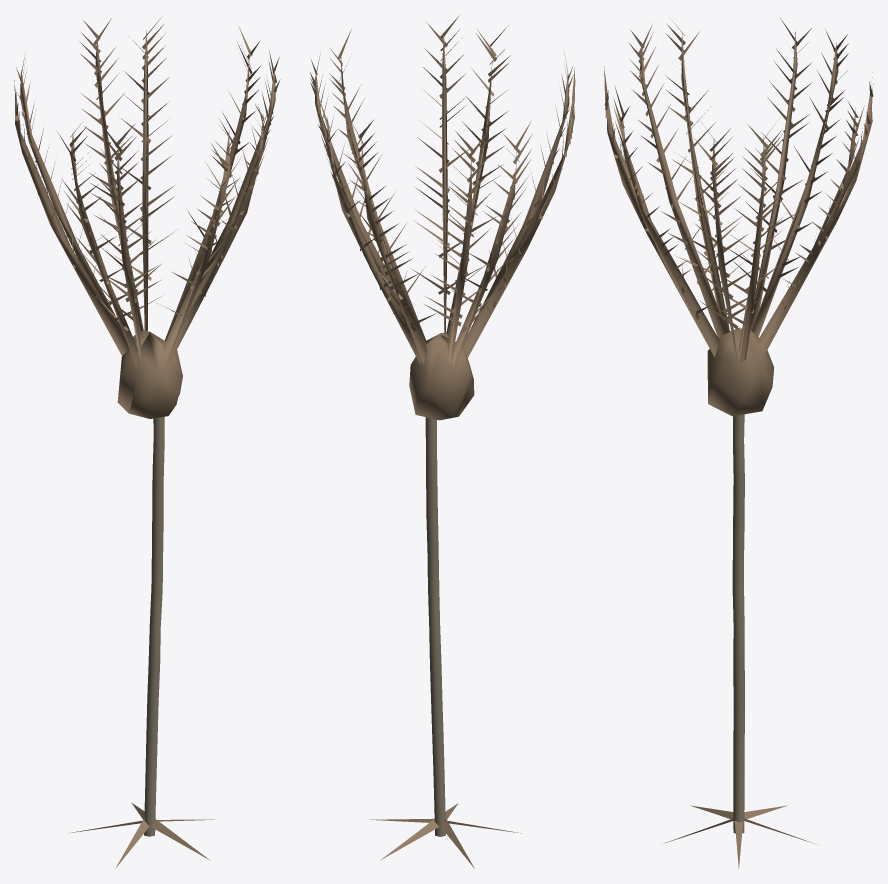
The model's file is devonian-crinoid.lod1.glb.
The picture shows the model from 3 angles, left to right: view 1: azimuth 30°, elevation 25°; view 2: azimuth 150°, elevation 25°; view 3: azimuth 270°, elevation 25°; orthographic projection.
Parts seen in each view (by area): view 1: devonian-crinoid; view 2: devonian-crinoid; view 3: devonian-crinoid.
Boxes of the visible parts, box(x1,y1,x2,y2) form: devonian-crinoid: box(14, 16, 280, 868); devonian-crinoid: box(310, 15, 575, 868); devonian-crinoid: box(604, 17, 873, 868).
Size of the model in its own units: 0.6875 by 2.22 by 0.703.
